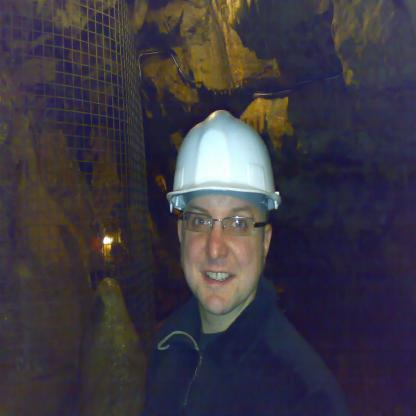Helmet: (169, 112, 287, 219)
